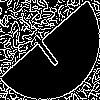I: (25, 25, 61, 69)
